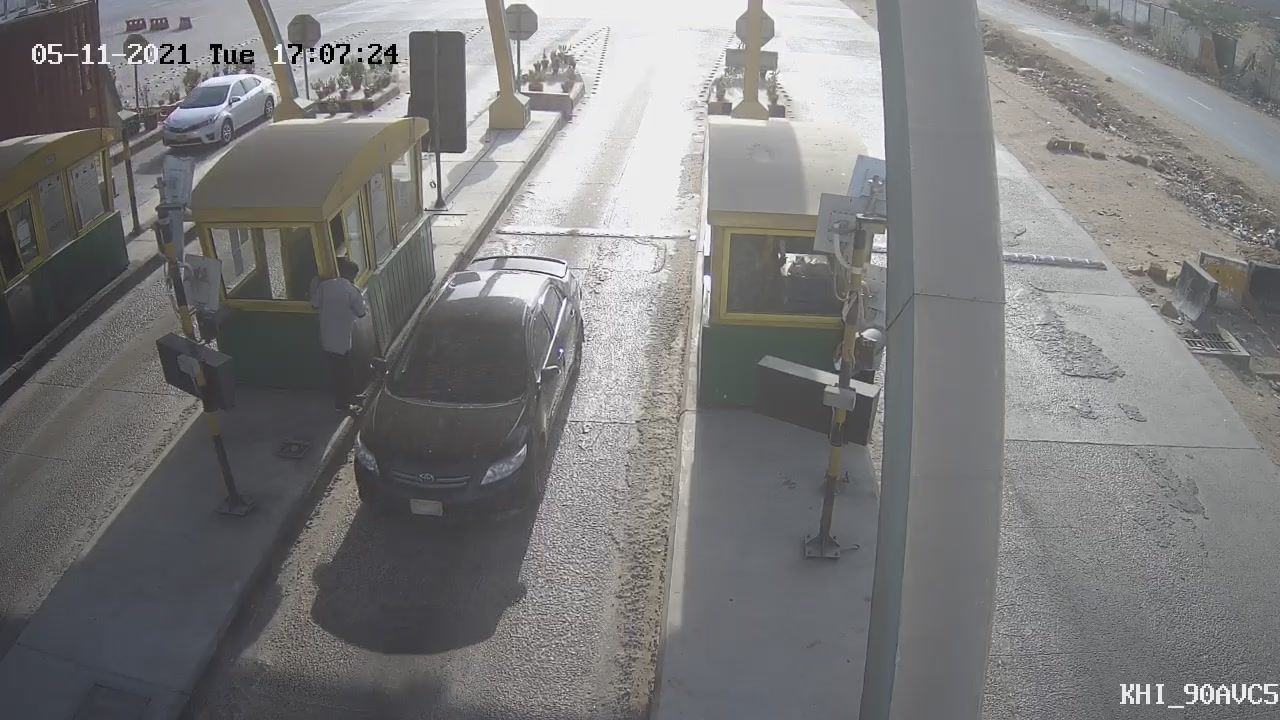F1: (317, 234, 603, 544)
